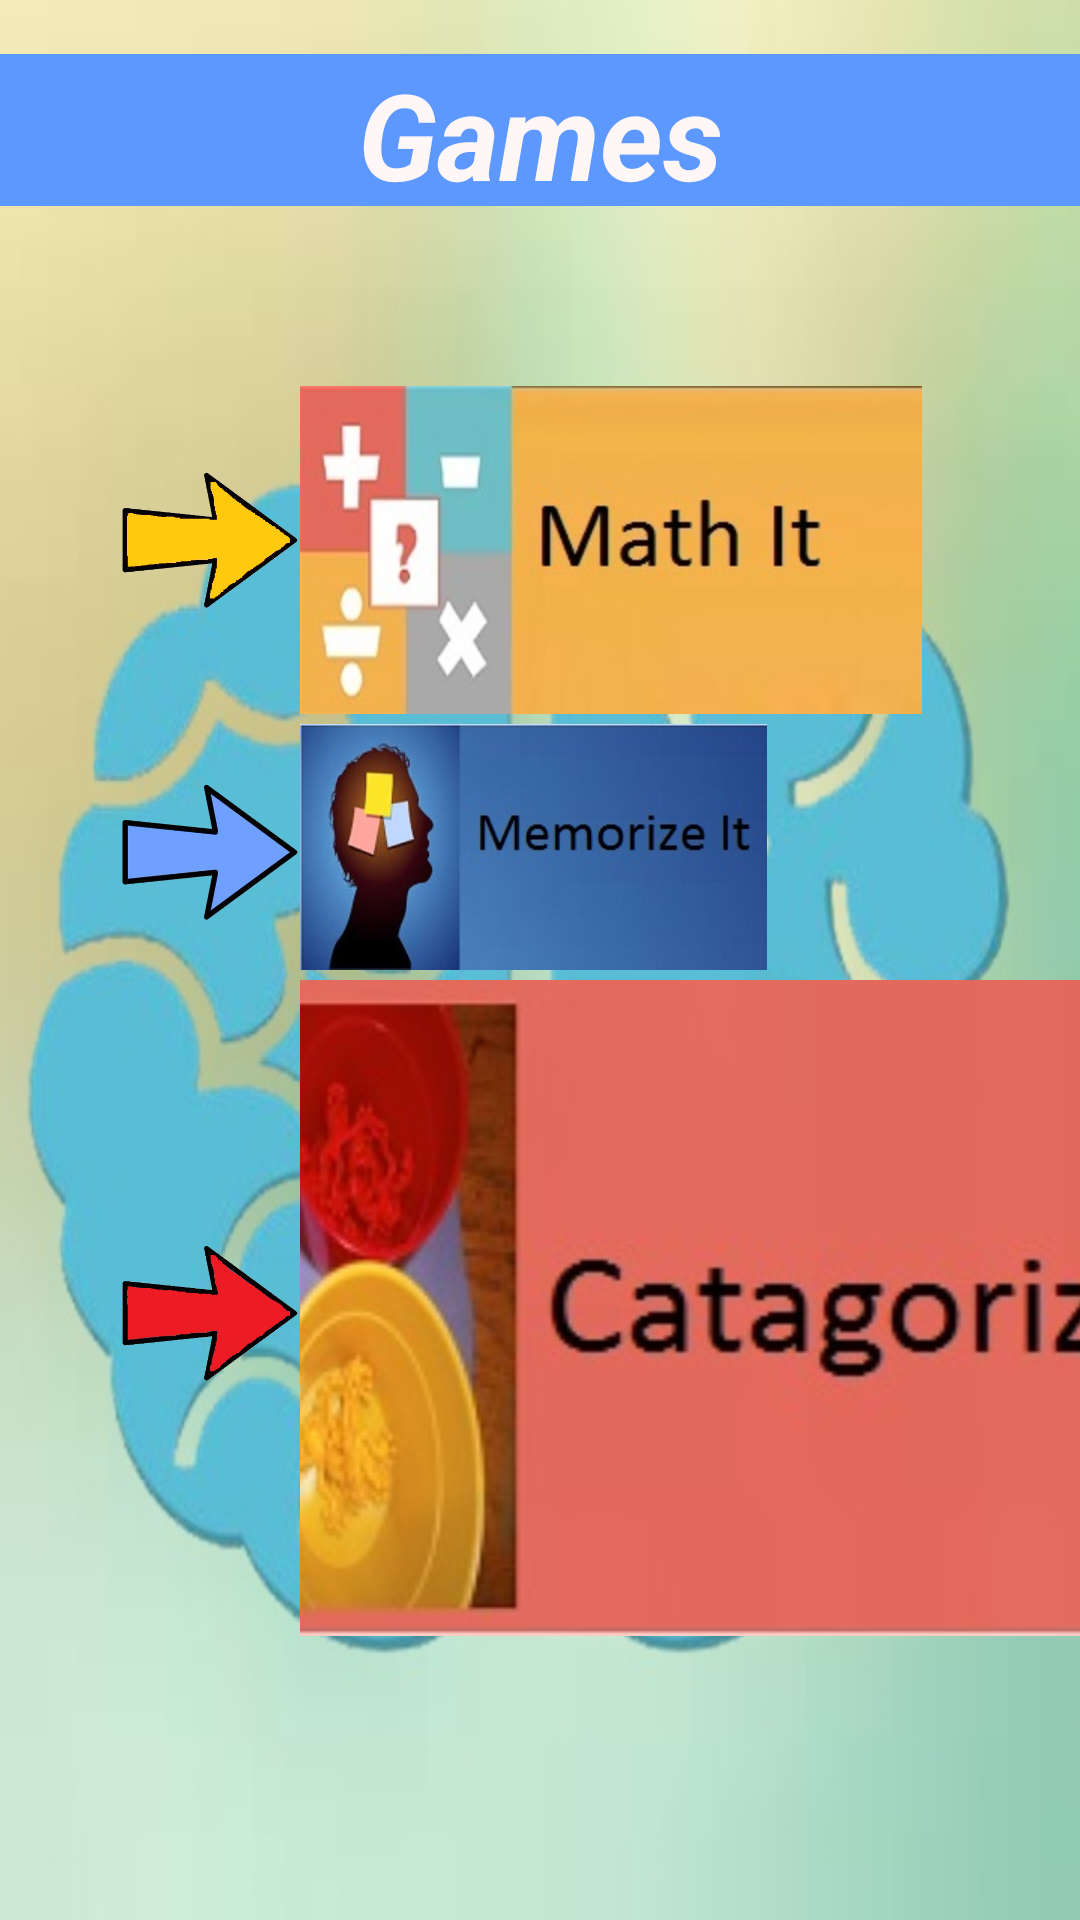

Where to tap for icons on this 1080 × 1920 app screen, as (x,y):
arow: (210,540), (210,852), (211,1313)
